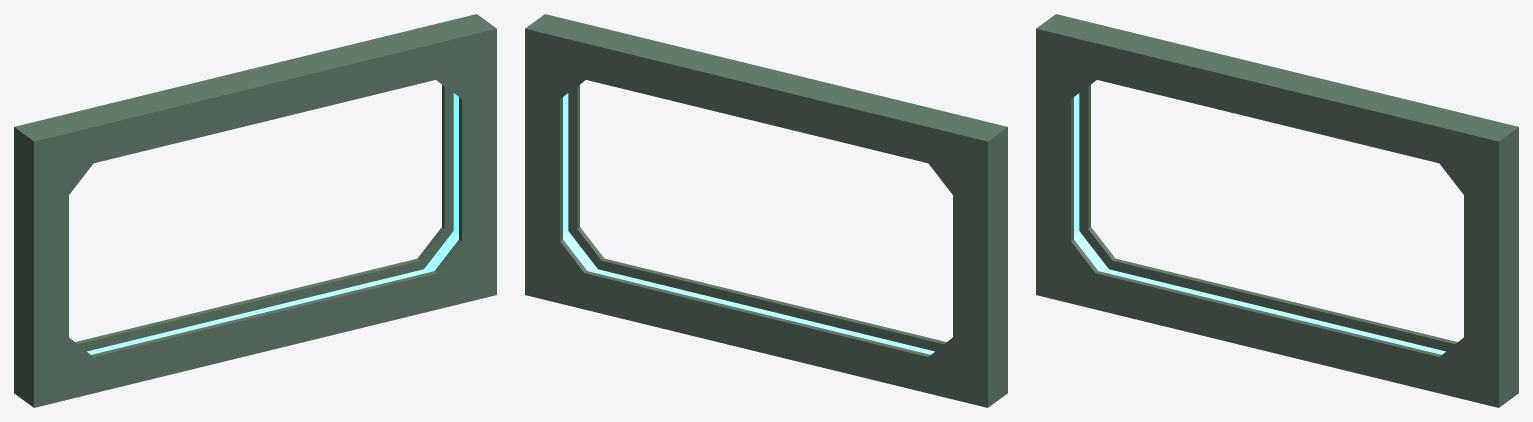
The model's file is W2_WallWindow1A_4m.fbx.
The picture shows the model from 3 angles, left to right: view 1: azimuth 30°, elevation 25°; view 2: azimuth 150°, elevation 25°; view 3: azimuth 330°, elevation 25°; orthographic projection.
Visible parts, largest first — view 1: W2_WallWindow1A_4m.001; view 2: W2_WallWindow1A_4m.001; view 3: W2_WallWindow1A_4m.001.
Boxes of the visible parts, x1=… form: W2_WallWindow1A_4m.001: x1=14, y1=14, x2=496, y2=407; W2_WallWindow1A_4m.001: x1=525, y1=14, x2=1007, y2=407; W2_WallWindow1A_4m.001: x1=1036, y1=14, x2=1518, y2=407.
Bounding box in the file's own units: 4 × 2.2 × 0.3.
